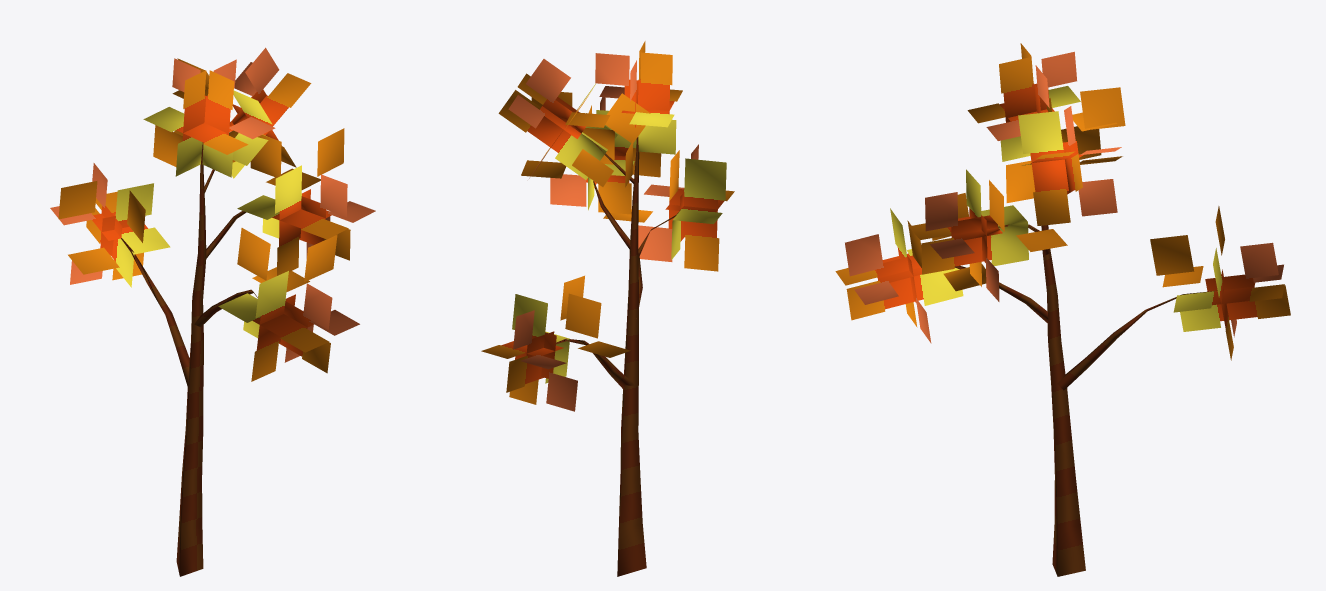
Rendered from dzewo.obj.
The picture shows the model from 3 angles, left to right: view 1: azimuth 30°, elevation 25°; view 2: azimuth 150°, elevation 25°; view 3: azimuth 270°, elevation 25°; orthographic projection. The views are drawn at different scales.
Parts seen in each view (by area): view 1: liscie, pienigalezie; view 2: liscie, pienigalezie; view 3: liscie, pienigalezie.
Boxes of the visible parts, x1=… form: liscie: x1=50, y1=47, x2=375, y2=381; pienigalezie: x1=121, y1=142, x2=257, y2=576; liscie: x1=481, y1=41, x2=734, y2=411; pienigalezie: x1=556, y1=131, x2=680, y2=576; liscie: x1=835, y1=43, x2=1290, y2=360; pienigalezie: x1=954, y1=224, x2=1217, y2=576.
Bounding box in the file's own units: 5.49 × 11.68 × 9.89.
Materials: 2 (2 with a texture image).
